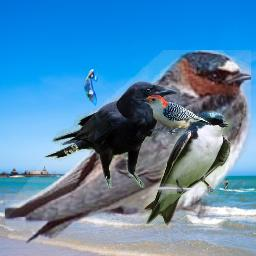Crow: (44, 81, 179, 188)
Swallow: (5, 50, 251, 248), (142, 110, 231, 226)
Woodpecker: (137, 95, 211, 135)
